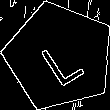L_NW: (32, 26, 87, 86)
